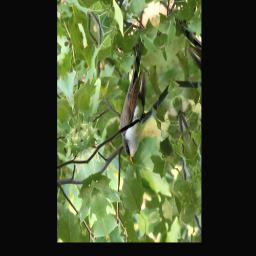Cuckoo: (98, 39, 166, 167)
